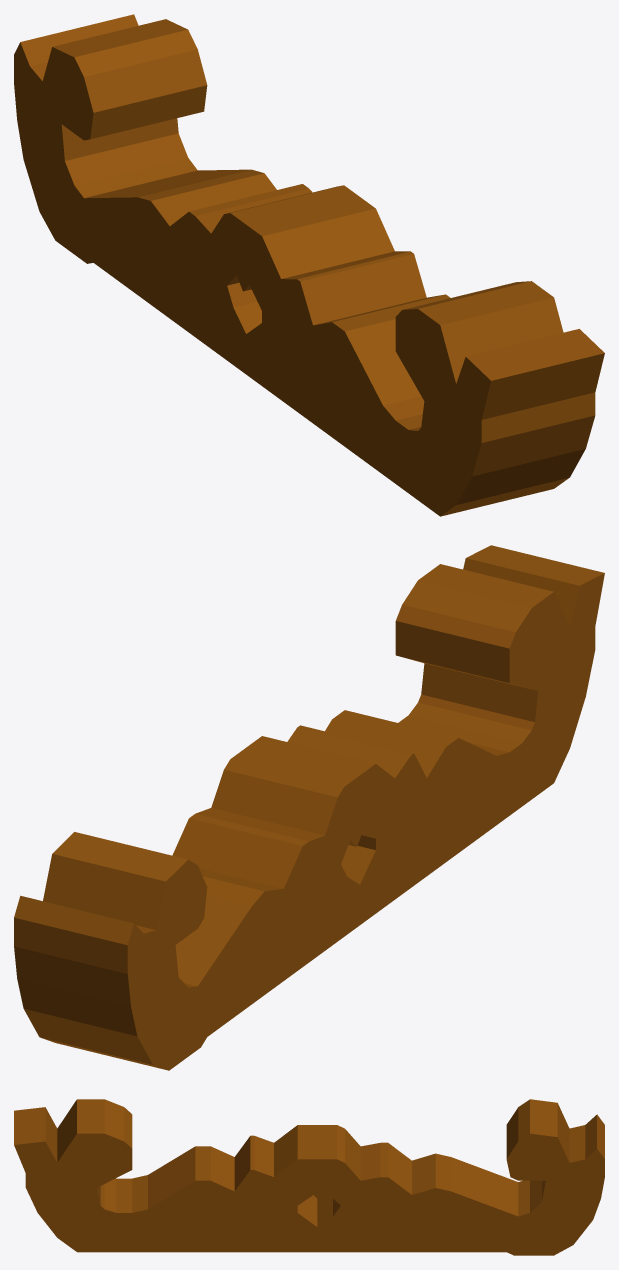
3 views of the same model, one above another, from view 1: azimuth 30°, elevation 25°; view 2: azimuth 150°, elevation 25°; view 3: azimuth 270°, elevation 25° (orthographic). The views are drawn at different scales.
Parts seen in each view (by area): view 1: scroll; view 2: scroll; view 3: scroll.
Part boxes in pixels (left/top/right/bottom): scroll: left=14, top=14, right=604, bottom=516; scroll: left=14, top=545, right=604, bottom=1070; scroll: left=14, top=1099, right=604, bottom=1255.
Bounding box in the file's own units: 0.0207 × 0.0342 × 0.15.
